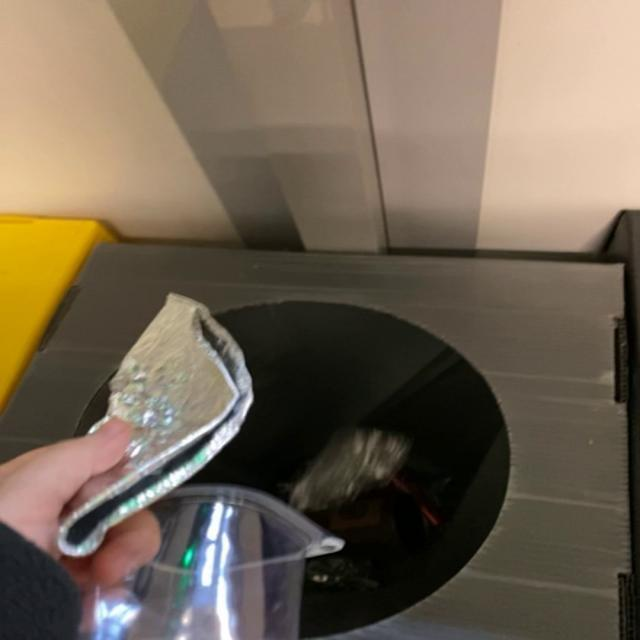Bin: (1, 244, 630, 640)
